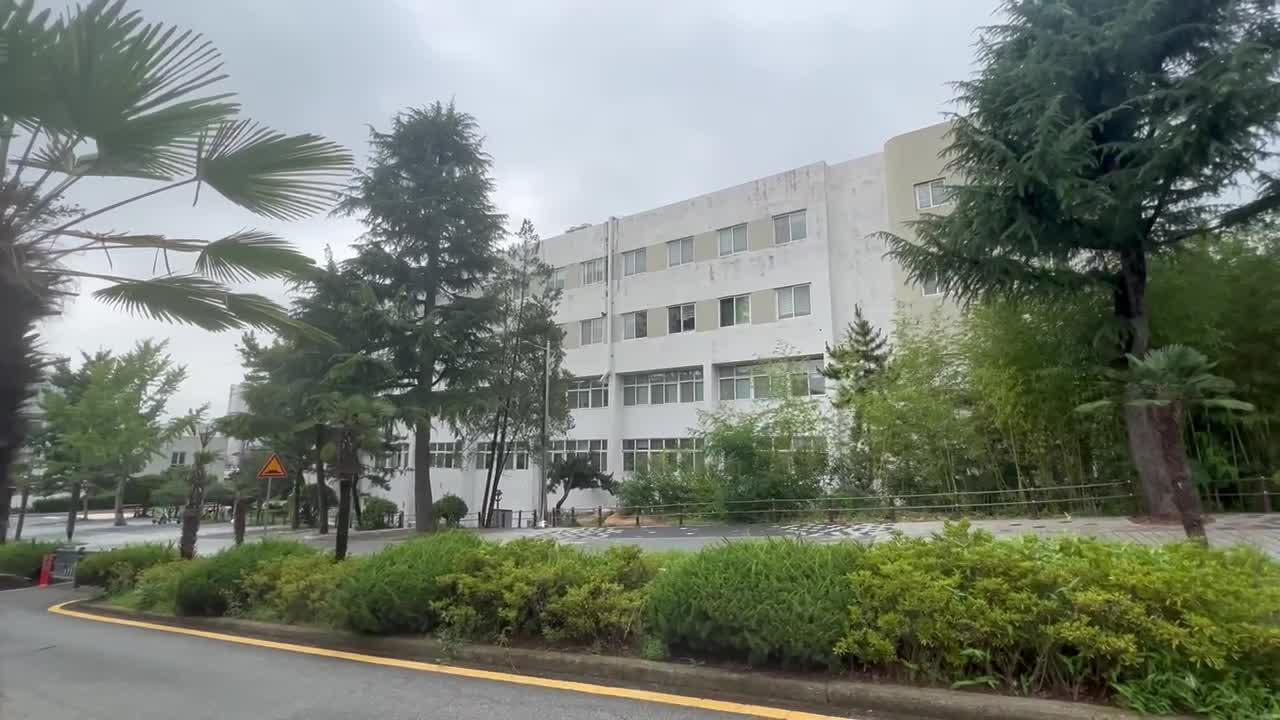building: (563, 157, 826, 403)
